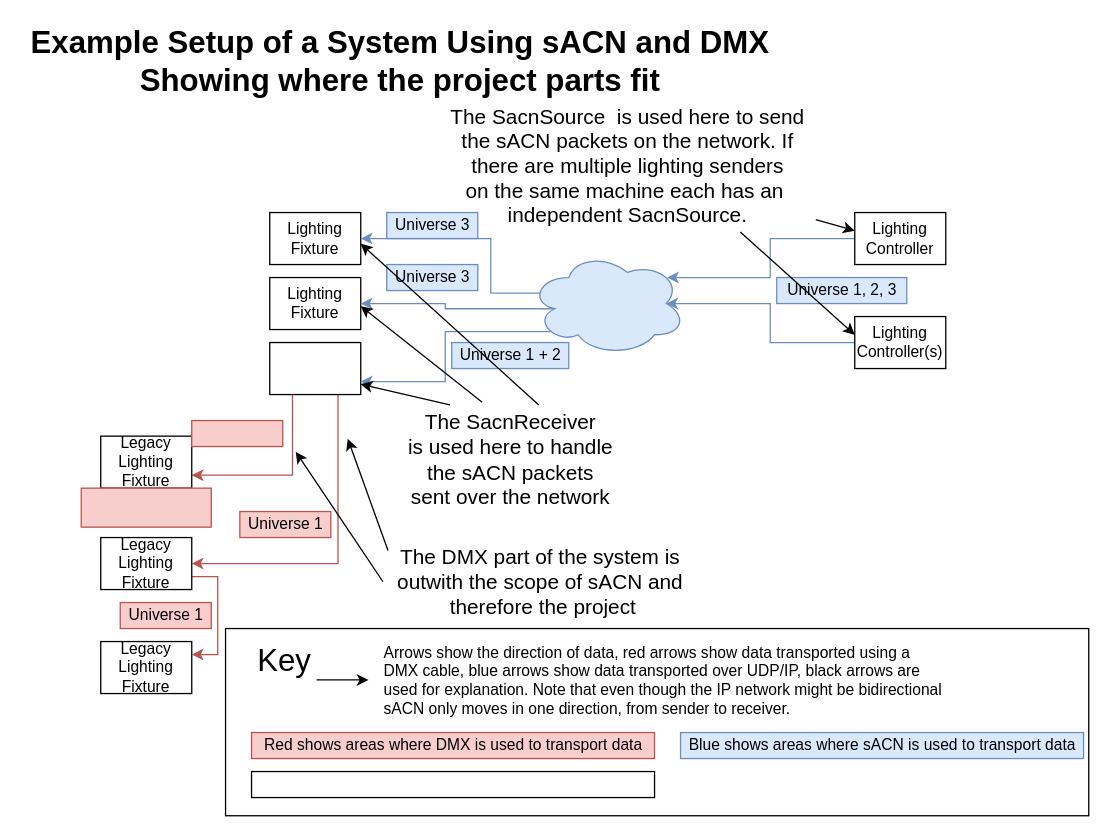
Some shapes in this 1112 by 838 pixel diagram are drawn without their labels. Here are the shapes that lost their labels. From the top down, the centre of each, then its label:
At pixel 607 303: "The rest of the IP network".
At pixel 314 368: "E1.31 -> DMX Converter".
At pixel 236 433: "Universe 2".
At pixel 145 507: "For many DMX devices ...".
At pixel 452 784: "White boxes shown individual physical machines".
